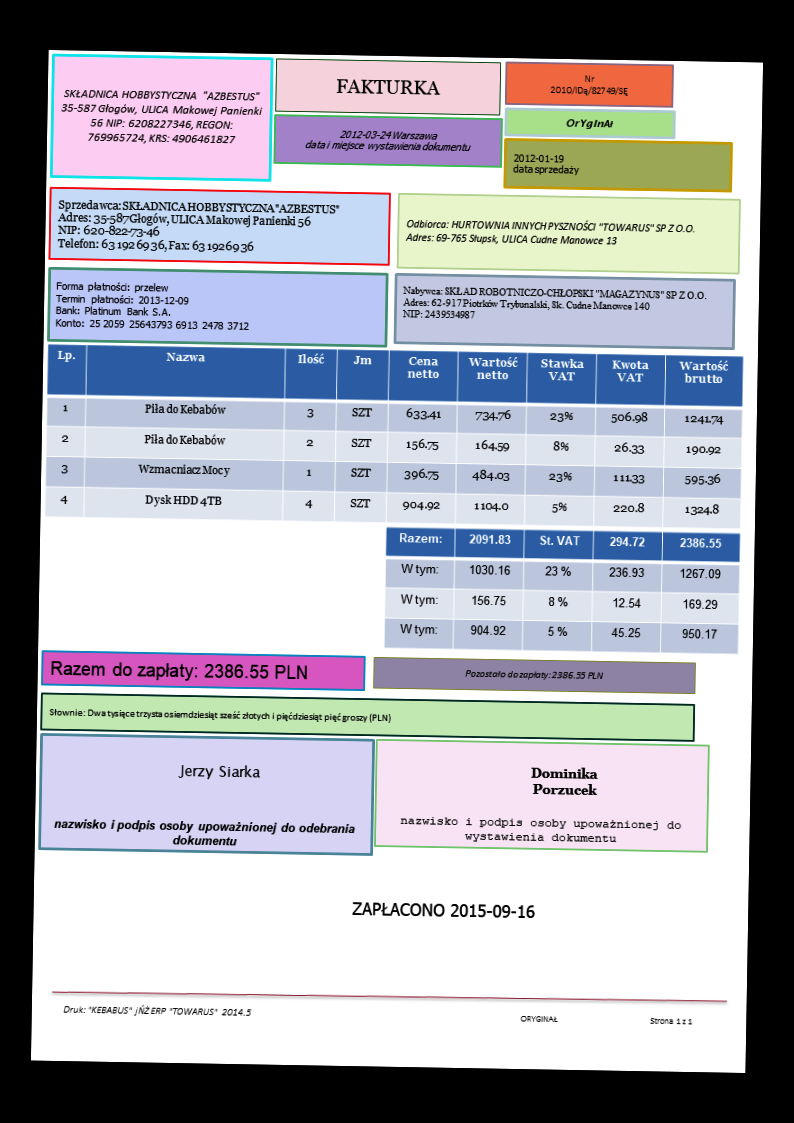Table: (43, 342, 745, 530), (382, 524, 741, 656)
TextBox: (54, 194, 344, 259), (399, 281, 709, 326), (57, 84, 266, 148), (53, 277, 253, 335), (52, 816, 358, 850), (397, 811, 685, 847), (403, 216, 697, 250), (47, 704, 394, 727), (48, 657, 309, 683), (302, 126, 474, 156), (349, 898, 540, 921), (61, 1001, 255, 1020), (517, 1011, 696, 1029), (527, 762, 602, 800), (462, 666, 606, 684), (333, 75, 441, 98), (546, 70, 631, 99), (174, 760, 264, 784), (511, 149, 581, 178), (563, 113, 615, 132)
